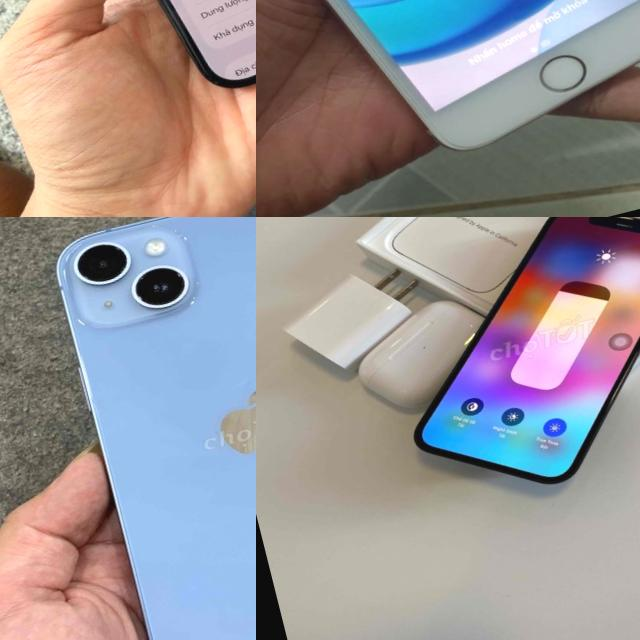gen_12_13: (363, 217, 640, 517)
gen_14: (35, 217, 256, 640), (10, 0, 256, 113)
gen_7_8: (256, 0, 640, 206)
